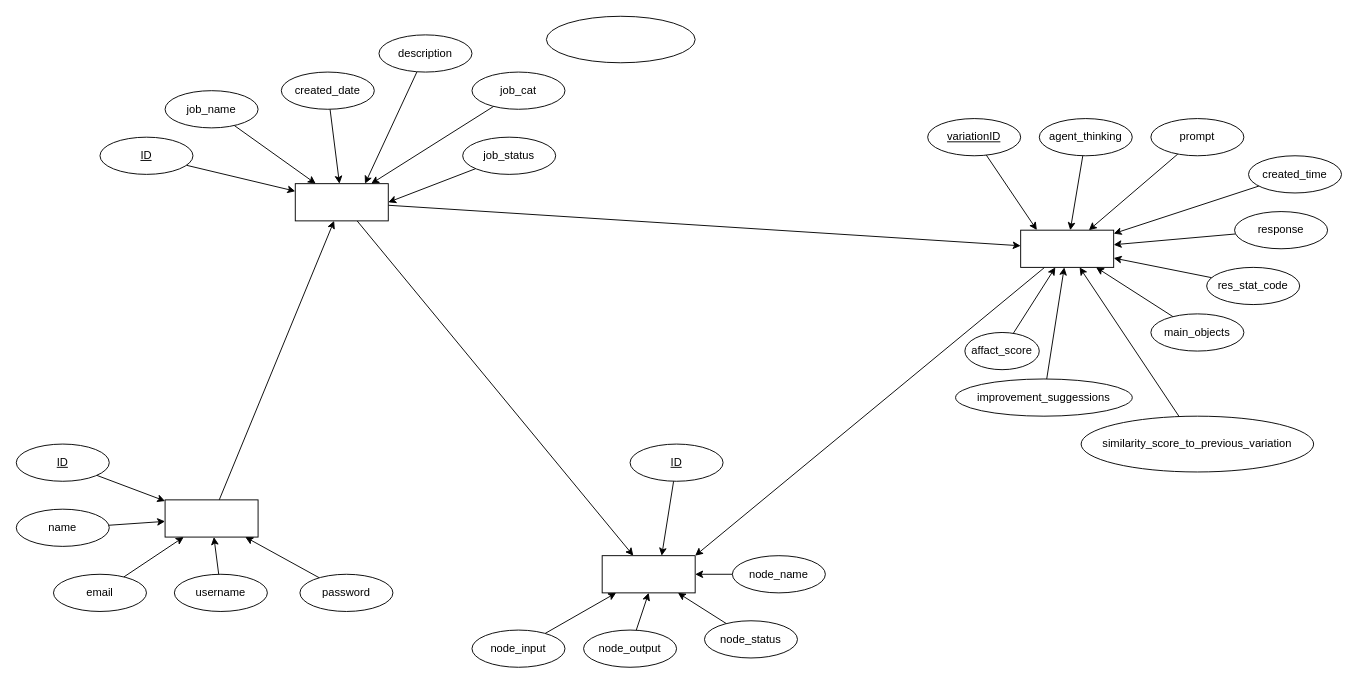
This 1358x684 diagram has some shape labels left out. Each missing label, with the centre of its shape:
jobs: the point at 341,202
nodeStatus: the point at 648,574
user: the point at 211,518
variation: the point at 1067,248
variation_similarity_score: the point at 620,39
